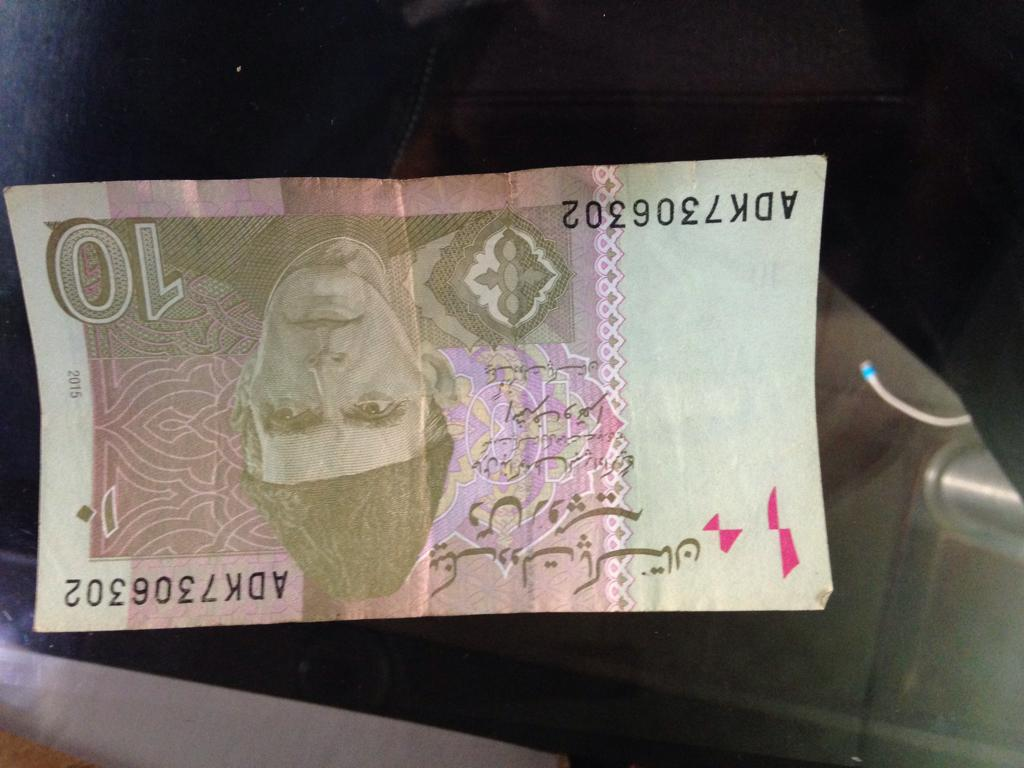10 rupee: (1, 175, 903, 649)
